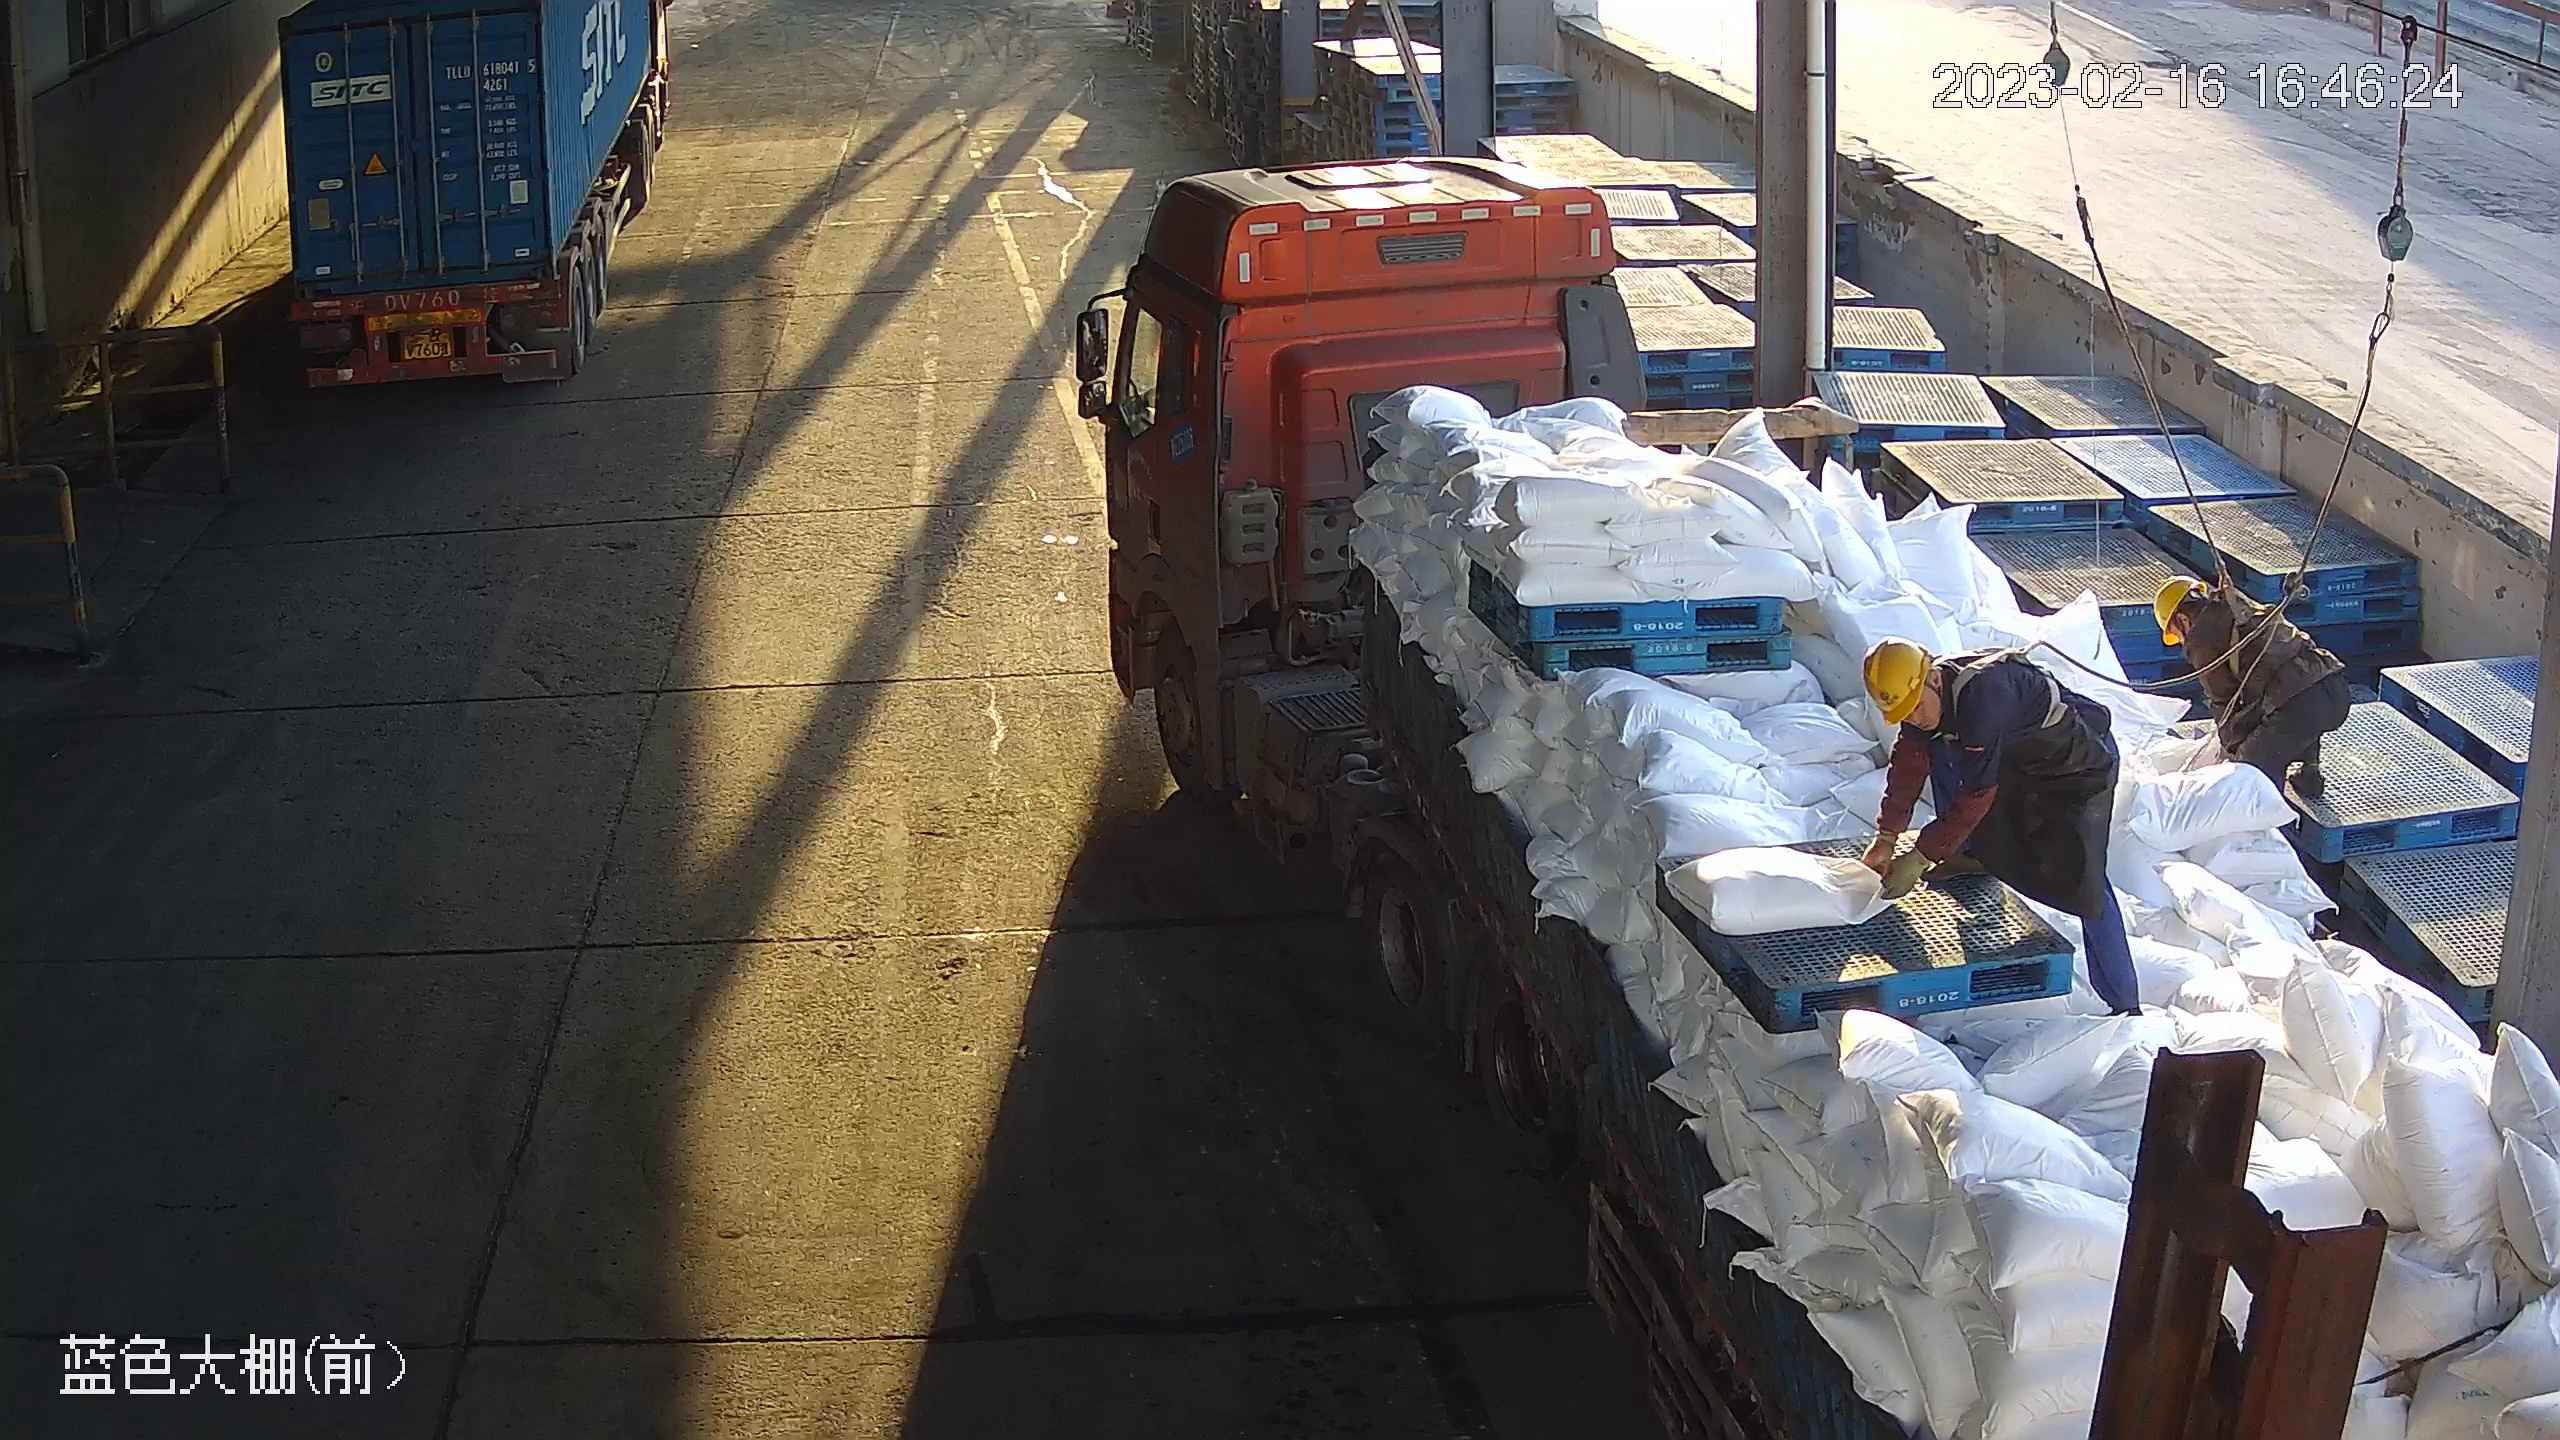belt: (1946, 639, 2070, 732), (2211, 570, 2285, 675)
head: (1865, 637, 2025, 782), (2156, 566, 2254, 666)
helmet: (1865, 639, 1935, 728), (2156, 578, 2206, 647)
people: (1863, 637, 2142, 1018), (2154, 570, 2351, 808)
truck: (1071, 164, 2556, 1440), (277, 1, 670, 406)
